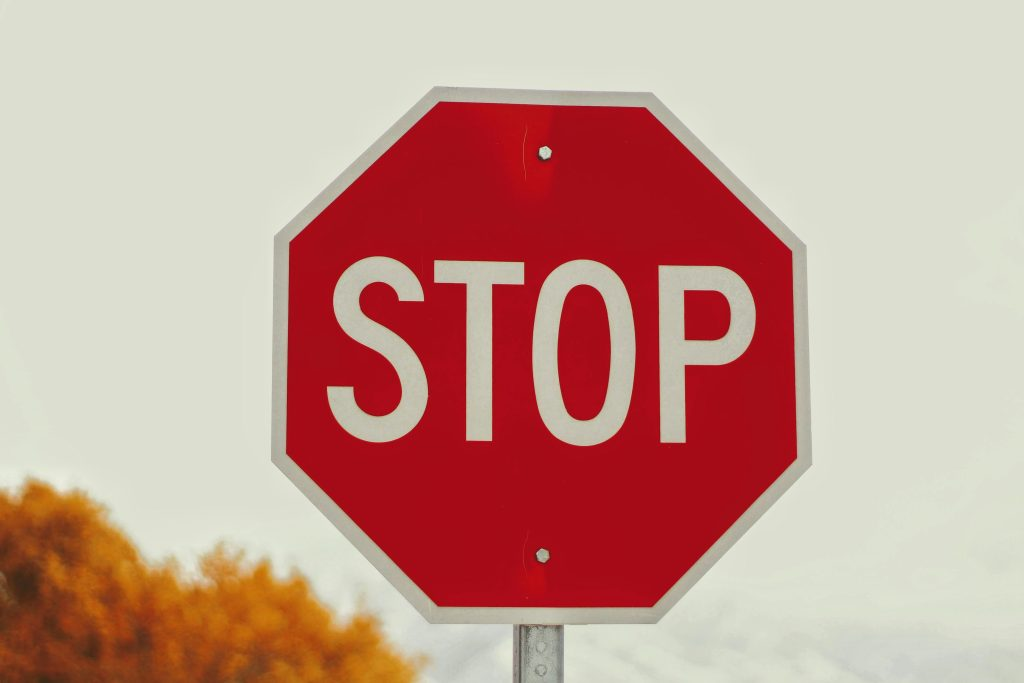sign_stop: (269, 82, 813, 626)
